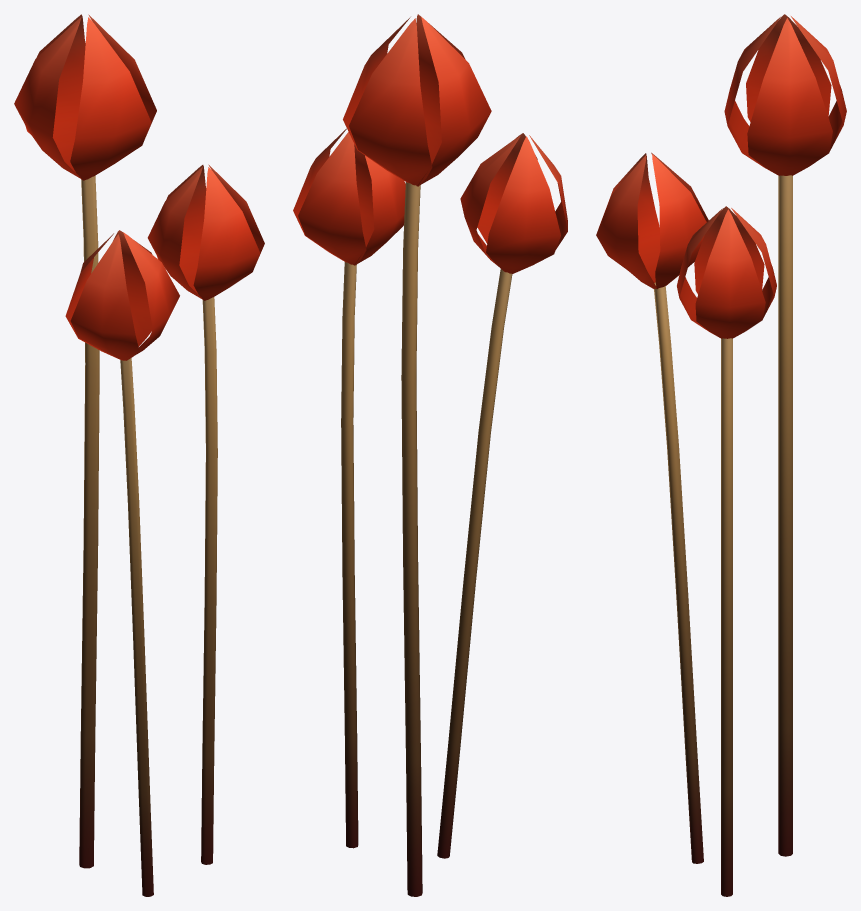
Rendered from Flower5.fbx.
3 views of the same model, side by side, from view 1: azimuth 30°, elevation 25°; view 2: azimuth 150°, elevation 25°; view 3: azimuth 270°, elevation 25° (orthographic). The views are drawn at different scales.
Parts seen in each view (by area): view 1: Plane.002; view 2: Plane.002; view 3: Plane.002.
Part boxes in pixels (x1=…): Plane.002: x1=14, y1=14, x2=264, y2=896; Plane.002: x1=293, y1=14, x2=567, y2=896; Plane.002: x1=596, y1=14, x2=846, y2=896.
Bounding box in the file's own units: 39.27 × 148 × 40.23.
